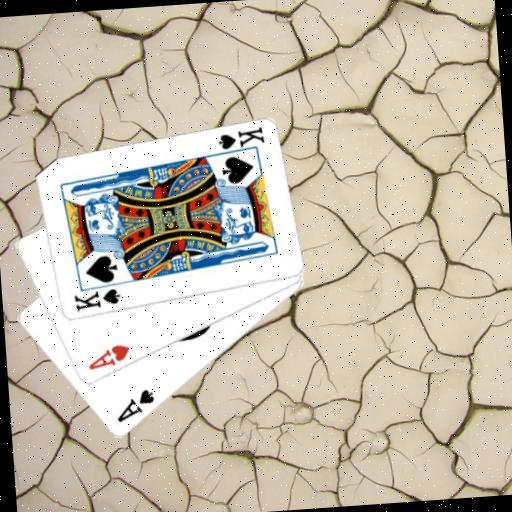AH: (84, 341, 133, 372)
AS: (112, 386, 158, 425)
KS: (211, 124, 267, 158), (70, 286, 123, 314)
